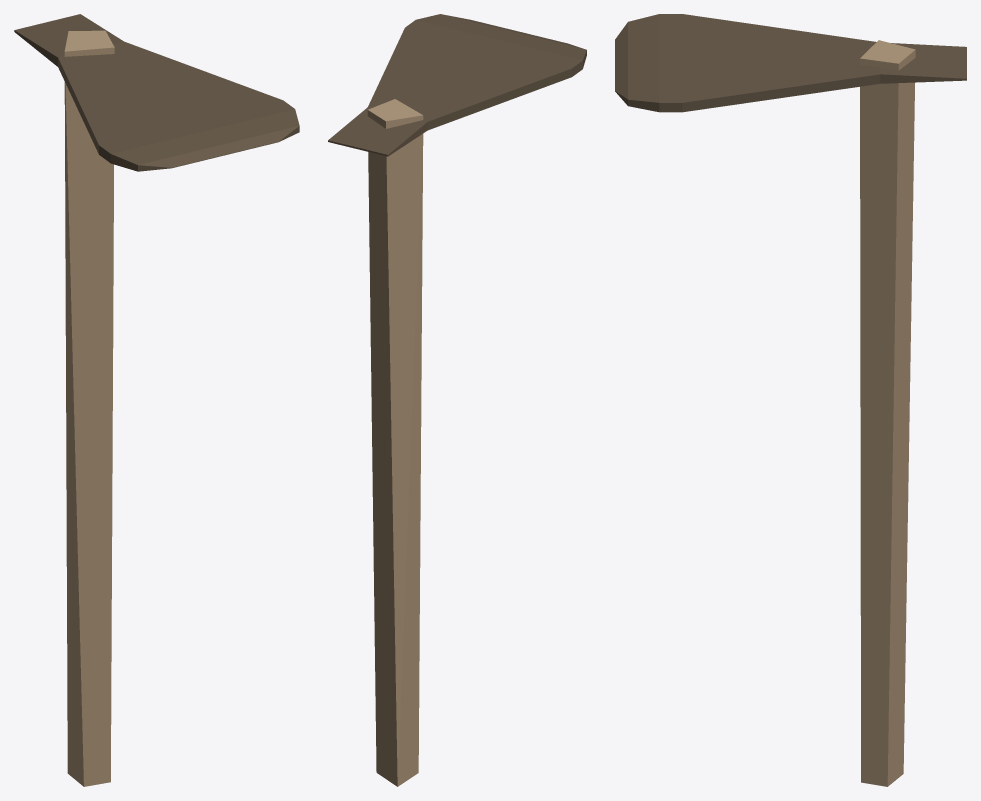
Rendered from WoodenHoe.glb.
3 renders of one model, left to right at view 1: azimuth 30°, elevation 25°; view 2: azimuth 150°, elevation 25°; view 3: azimuth 270°, elevation 25°, orthographic. The views are drawn at different scales.
Visible parts, largest first — view 1: Cylinder.011, Cube.005; view 2: Cylinder.011, Cube.005; view 3: Cylinder.011, Cube.005.
Boxes of the visible parts, box(x1,y1,x2,y2) form: Cylinder.011: box(64, 30, 114, 786); Cube.005: box(14, 14, 299, 171); Cylinder.011: box(367, 99, 423, 786); Cube.005: box(328, 14, 586, 156); Cylinder.011: box(860, 40, 915, 786); Cube.005: box(615, 14, 966, 112).
Size of the model in its own units: 0.2362 by 0.902 by 0.3952.
